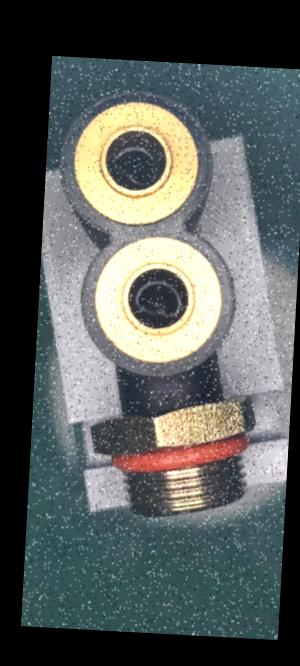off-centered: (106, 139, 160, 193), (125, 274, 183, 323)
